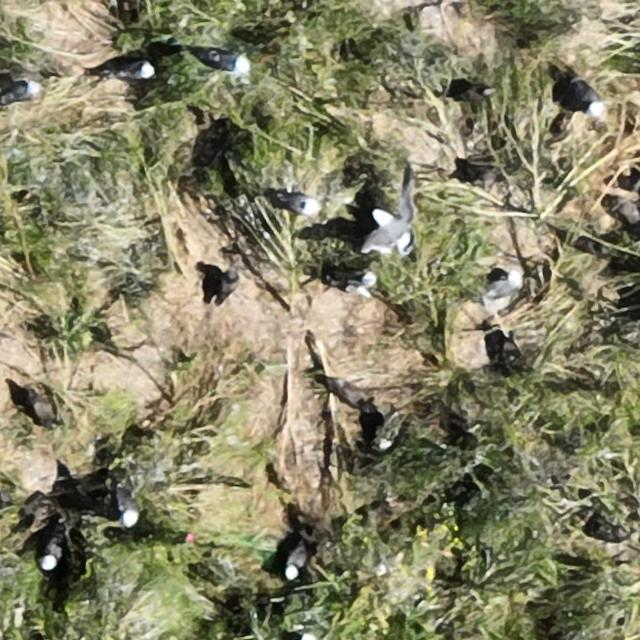F: (370, 182, 416, 258)
umineko: (377, 413, 402, 452), (574, 80, 602, 112), (205, 52, 246, 72), (489, 272, 522, 296), (281, 194, 318, 214), (286, 546, 308, 579), (118, 492, 138, 528), (340, 266, 374, 287), (114, 62, 153, 80), (2, 82, 38, 101), (41, 536, 62, 568)
